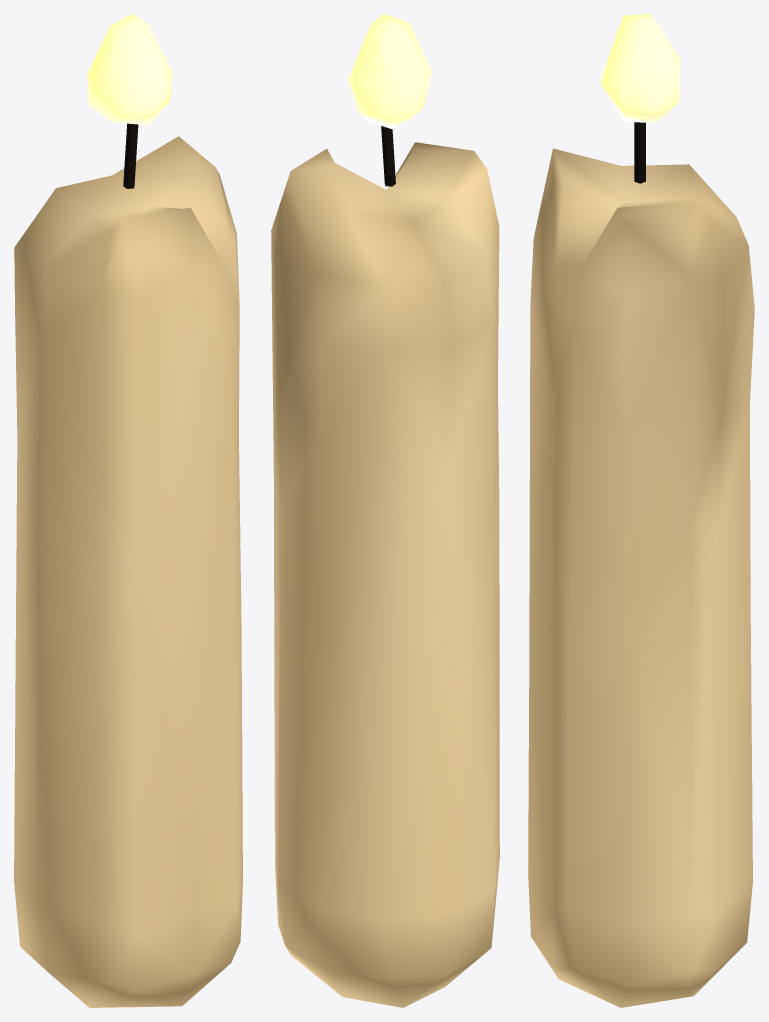
The model's file is candle_v14.glb.
The picture shows the model from 3 angles, left to right: view 1: azimuth 30°, elevation 25°; view 2: azimuth 150°, elevation 25°; view 3: azimuth 270°, elevation 25°; orthographic projection.
Visible parts, largest first — view 1: candle; view 2: candle; view 3: candle.
Boxes of the visible parts, box(x1,y1,x2,y2) form: candle: box(14, 14, 242, 1007); candle: box(271, 14, 499, 1007); candle: box(528, 14, 754, 1007).
Bounding box in the file's own units: 0.0825 × 0.3889 × 0.0818.
